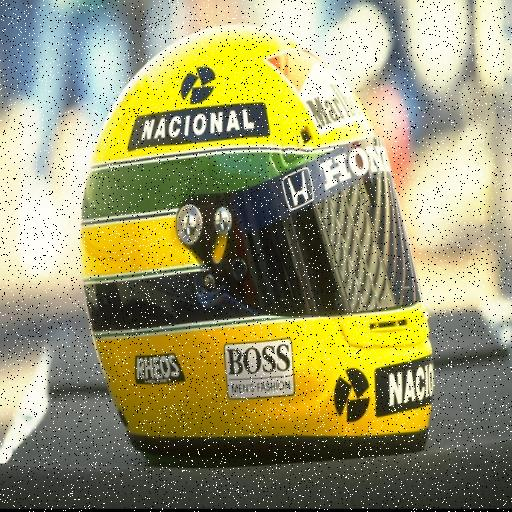Helmet: (82, 27, 433, 456)
